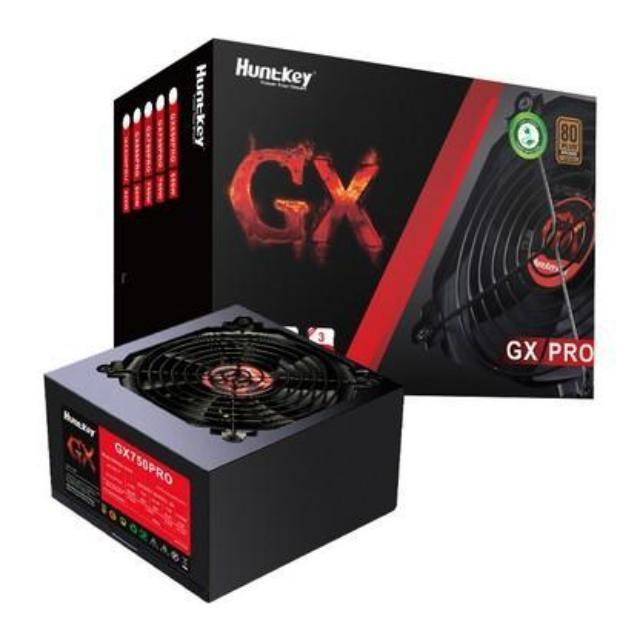PSU: (45, 298, 412, 600)
